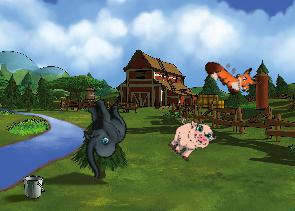elephant: (61, 92, 143, 180)
fox: (201, 44, 263, 104)
pig: (163, 111, 218, 167)
